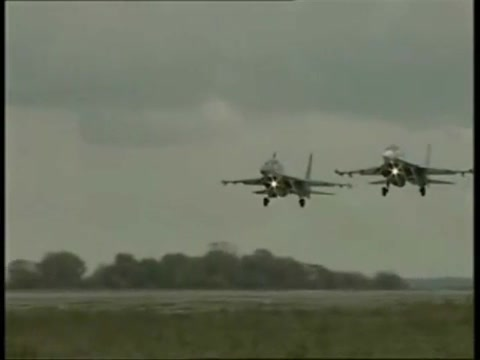aeroplane: (221, 153, 354, 209)
